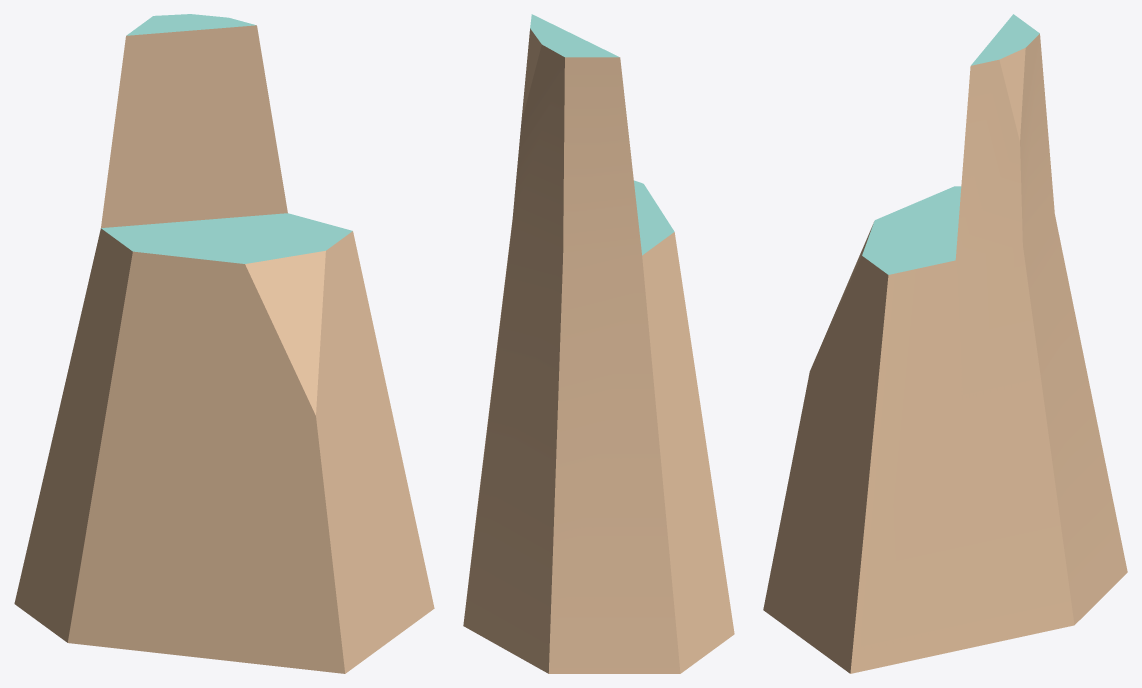
Rendered from rock_tall4.glb.
3 renders of one model, left to right at view 1: azimuth 30°, elevation 25°; view 2: azimuth 150°, elevation 25°; view 3: azimuth 270°, elevation 25°, orthographic. The views are drawn at different scales.
Parts seen in each view (by area): view 1: rock_tall4; view 2: rock_tall4; view 3: rock_tall4.
Boxes of the visible parts, bbox=[...] form: rock_tall4: bbox=[14, 14, 434, 673]; rock_tall4: bbox=[463, 14, 734, 673]; rock_tall4: bbox=[763, 14, 1127, 673].
Bounding box in the file's own units: 0.4428 × 0.7721 × 0.4615.
